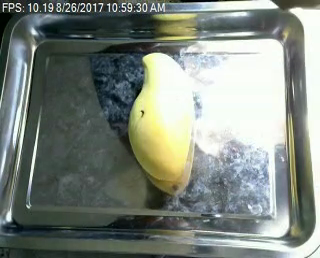Mango: (117, 47, 210, 207)
